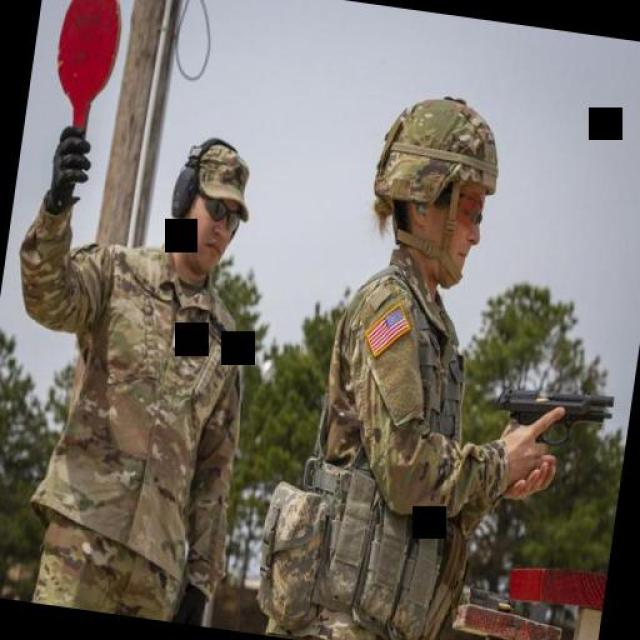gun: (489, 375, 619, 453)
